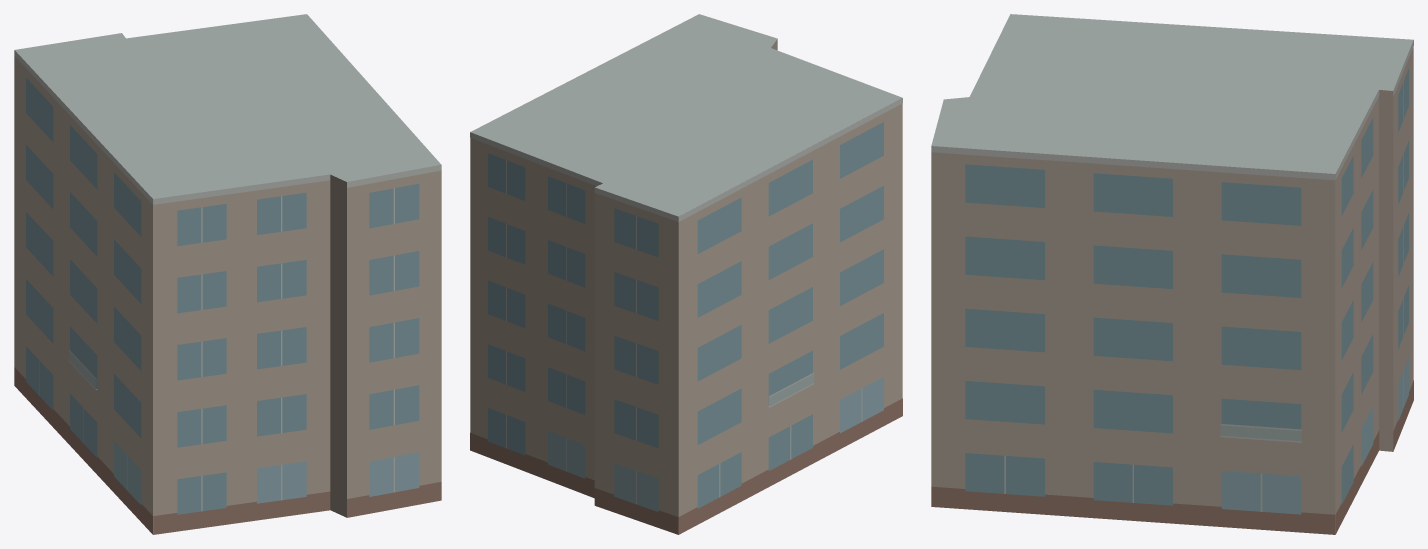
The model's file is survey-upis-33029667.glb.
3 renders of one model, left to right at view 1: azimuth 30°, elevation 25°; view 2: azimuth 150°, elevation 25°; view 3: azimuth 270°, elevation 25°, orthographic. The views are drawn at different scales.
Visible parts, largest first — view 1: survey-upis-33029667.tmp; view 2: survey-upis-33029667.tmp; view 3: survey-upis-33029667.tmp.
Boxes of the visible parts, bbox=[...] form: survey-upis-33029667.tmp: bbox=[14, 14, 441, 534]; survey-upis-33029667.tmp: bbox=[470, 14, 902, 534]; survey-upis-33029667.tmp: bbox=[931, 14, 1413, 534].
Size of the model in its own units: 13.37 by 14.05 by 17.03.
